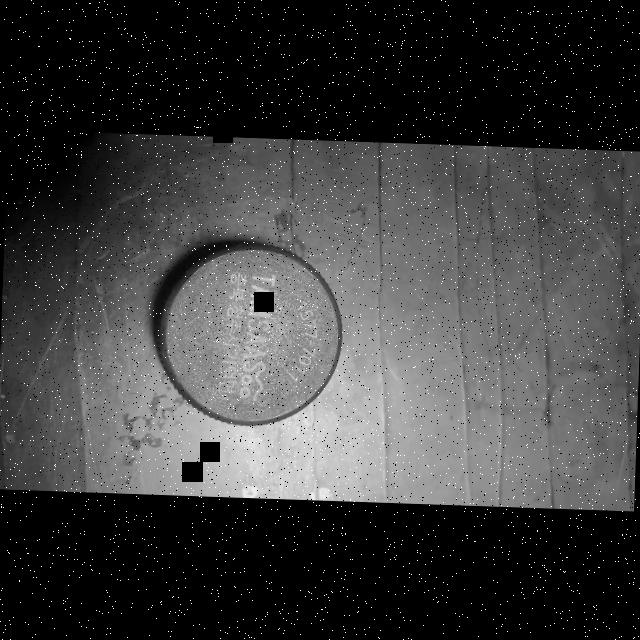plastic_bottle_cap: (150, 238, 348, 431)
